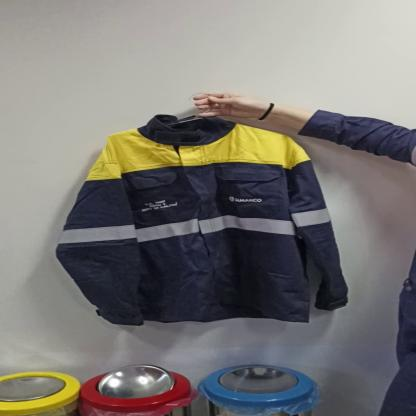C_eletrica: (55, 122, 353, 326)
